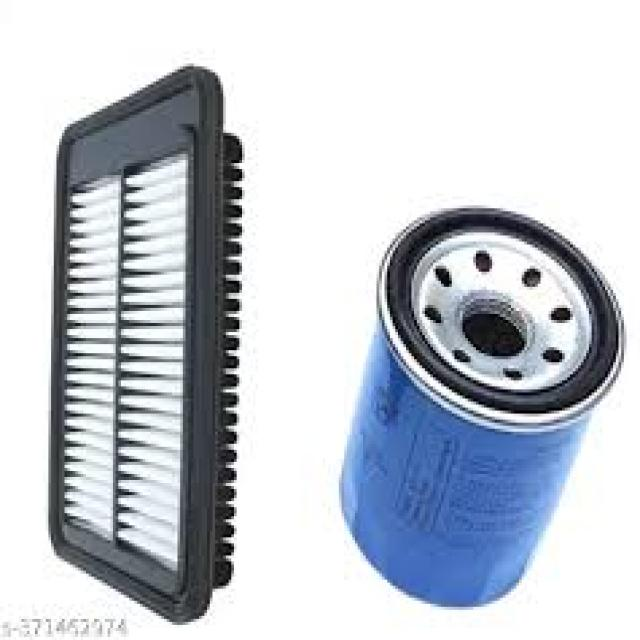air_filter: (44, 55, 246, 628)
oil_filter: (332, 200, 625, 613)
